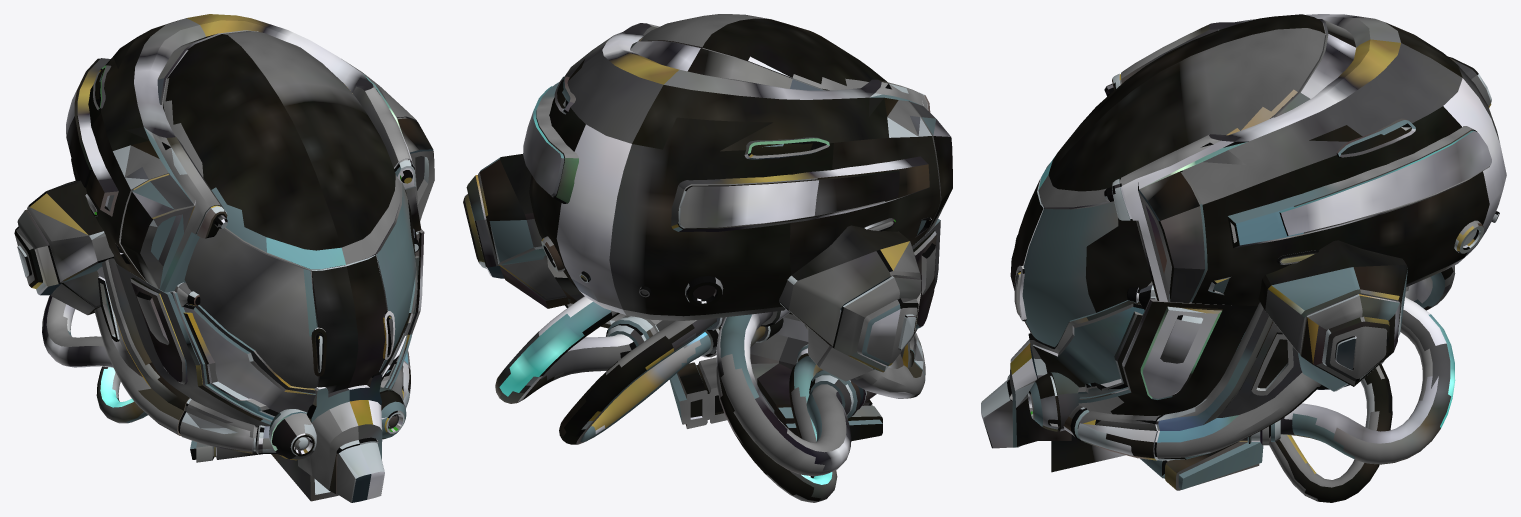
File: DamagedHelmet_baked.glb
3 renders of one model, left to right at view 1: azimuth 30°, elevation 25°; view 2: azimuth 150°, elevation 25°; view 3: azimuth 270°, elevation 25°, orthographic. The views are drawn at different scales.
Visible parts, largest first — view 1: node_damagedHelmet_-6514; view 2: node_damagedHelmet_-6514; view 3: node_damagedHelmet_-6514.
Boxes of the visible parts, x1,y1,x2,y2 form: node_damagedHelmet_-6514: [14, 14, 434, 502]; node_damagedHelmet_-6514: [463, 14, 952, 502]; node_damagedHelmet_-6514: [981, 14, 1506, 502].
Bounding box in the file's own units: 1.89 × 1.8 × 2.
Materials: 1 (1 with a texture image).
